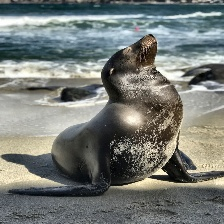seal: (51, 33, 186, 193)
